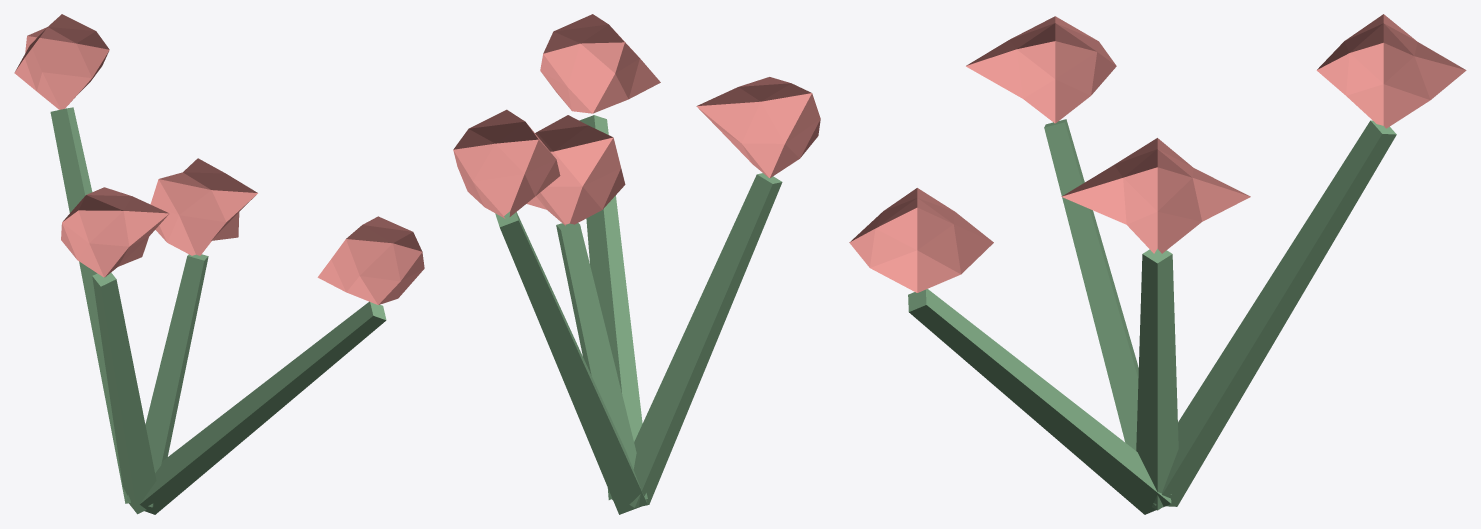
The model's file is flower_v10.glb.
3 renders of one model, left to right at view 1: azimuth 30°, elevation 25°; view 2: azimuth 150°, elevation 25°; view 3: azimuth 270°, elevation 25°, orthographic. The views are drawn at different scales.
Parts seen in each view (by area): view 1: lod0; view 2: lod0; view 3: lod0.
Part boxes in pixels (bbox=[...]): lod0: bbox=[14, 14, 424, 514]; lod0: bbox=[453, 14, 820, 514]; lod0: bbox=[849, 14, 1466, 514].
Size of what is drawn, in the model's own units: 0.3298 by 0.442 by 0.4896.
